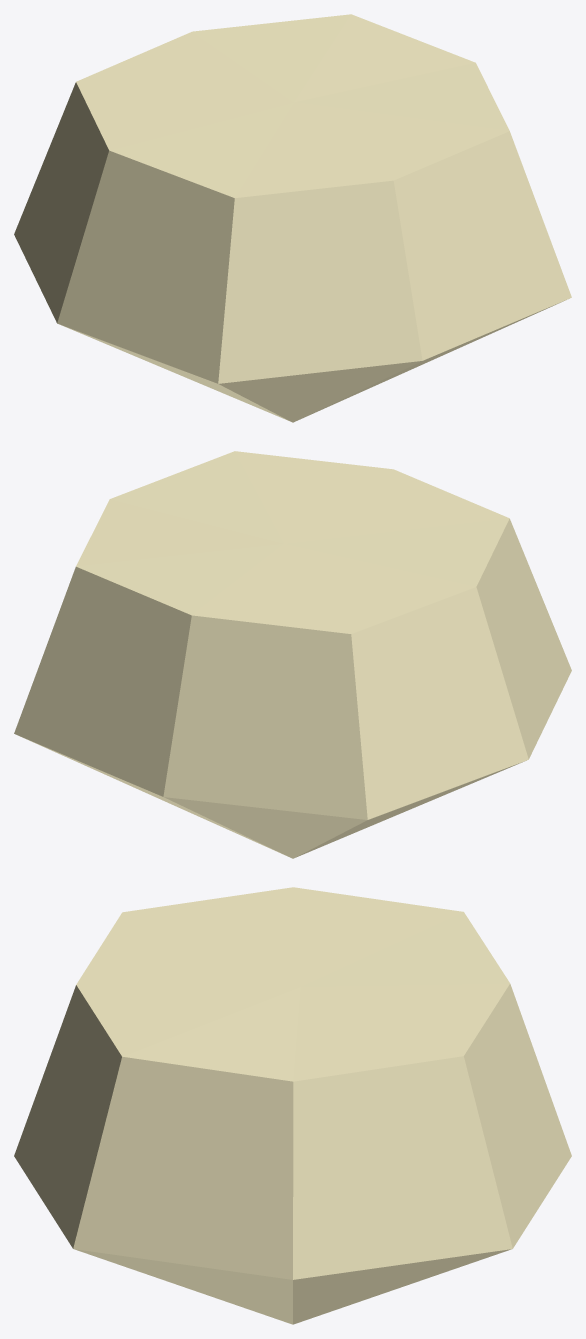
The model's file is low_content.glb.
3 views of the same model, one above another, from view 1: azimuth 30°, elevation 25°; view 2: azimuth 150°, elevation 25°; view 3: azimuth 270°, elevation 25° (orthographic). The views are drawn at different scales.
Visible parts, largest first — view 1: Milkshake; view 2: Milkshake; view 3: Milkshake.
Boxes of the visible parts, x1,y1,x2,y2 form: Milkshake: (14,14,571,422); Milkshake: (14,451,571,858); Milkshake: (14,887,571,1324).
Bounding box in the file's own units: 0.084 × 0.054 × 0.08.
Materials: 1 (1 with a texture image).
